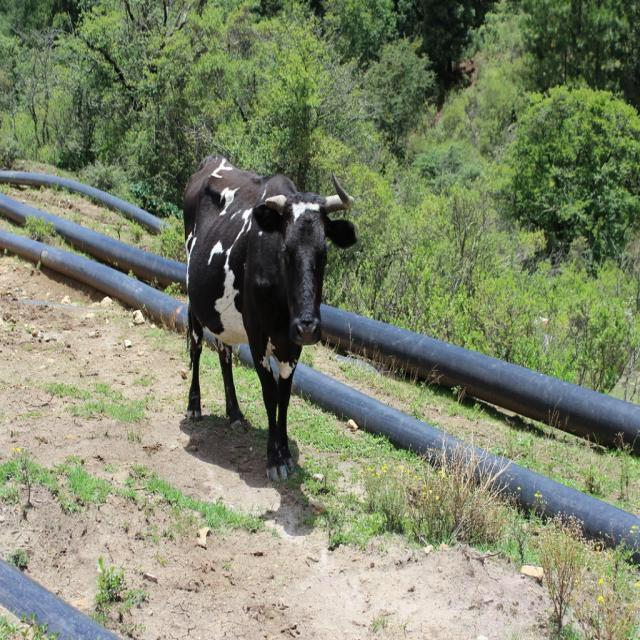cow: (184, 156, 356, 479)
